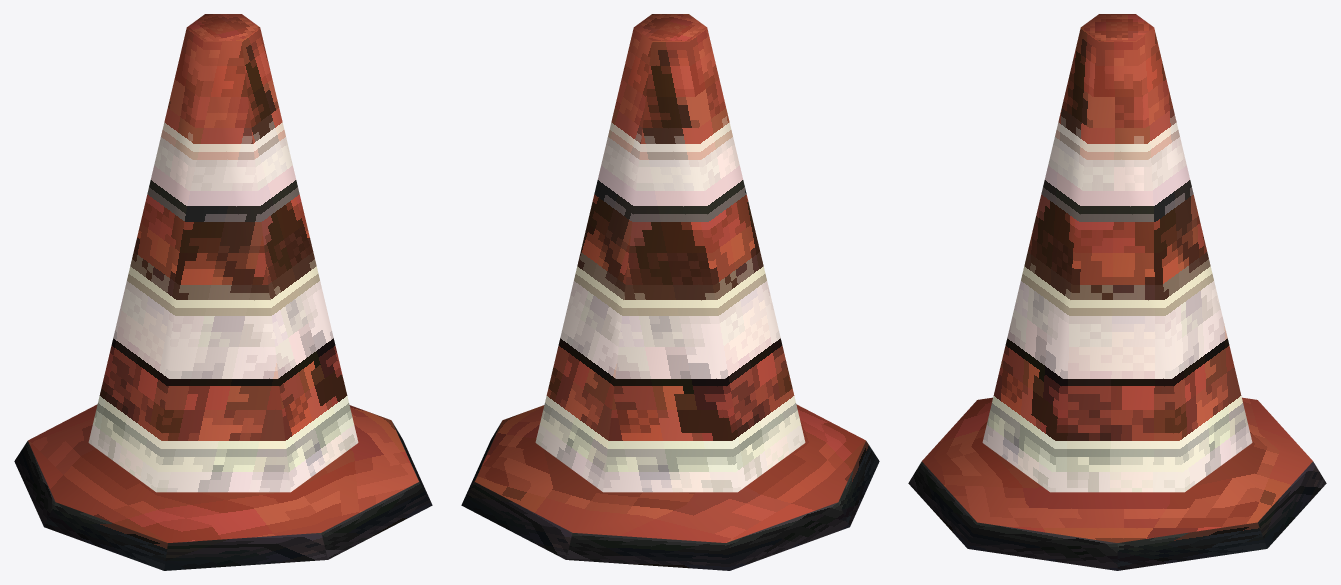
The model's file is prop_traffic_cone_round.glb.
3 views of the same model, side by side, from view 1: azimuth 30°, elevation 25°; view 2: azimuth 150°, elevation 25°; view 3: azimuth 270°, elevation 25° (orthographic).
Visible parts, largest first — view 1: Traffic_Cone_ver_01; view 2: Traffic_Cone_ver_01; view 3: Traffic_Cone_ver_01.
Boxes of the visible parts, <box> form: Traffic_Cone_ver_01: <box>14,14,432,570</box>; Traffic_Cone_ver_01: <box>461,14,879,570</box>; Traffic_Cone_ver_01: <box>908,14,1326,570</box>.
Bounding box in the file's own units: 0.4212 × 0.5112 × 0.4251.
1 material, 1 textured.
